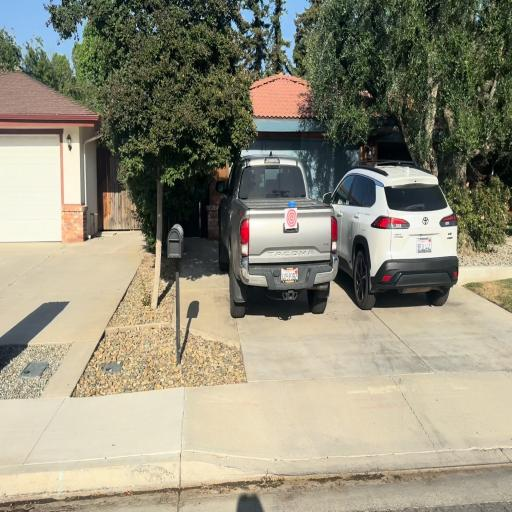bullseye: (286, 208, 297, 229)
